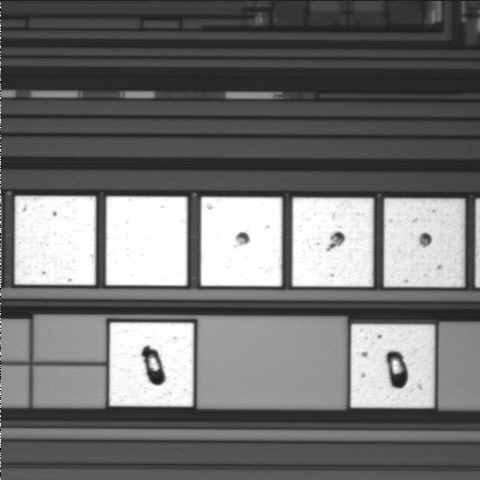pad: (15, 196, 96, 285), (106, 197, 187, 286), (201, 197, 282, 286), (292, 198, 373, 287), (384, 198, 465, 287), (351, 324, 435, 408), (109, 323, 194, 406)
